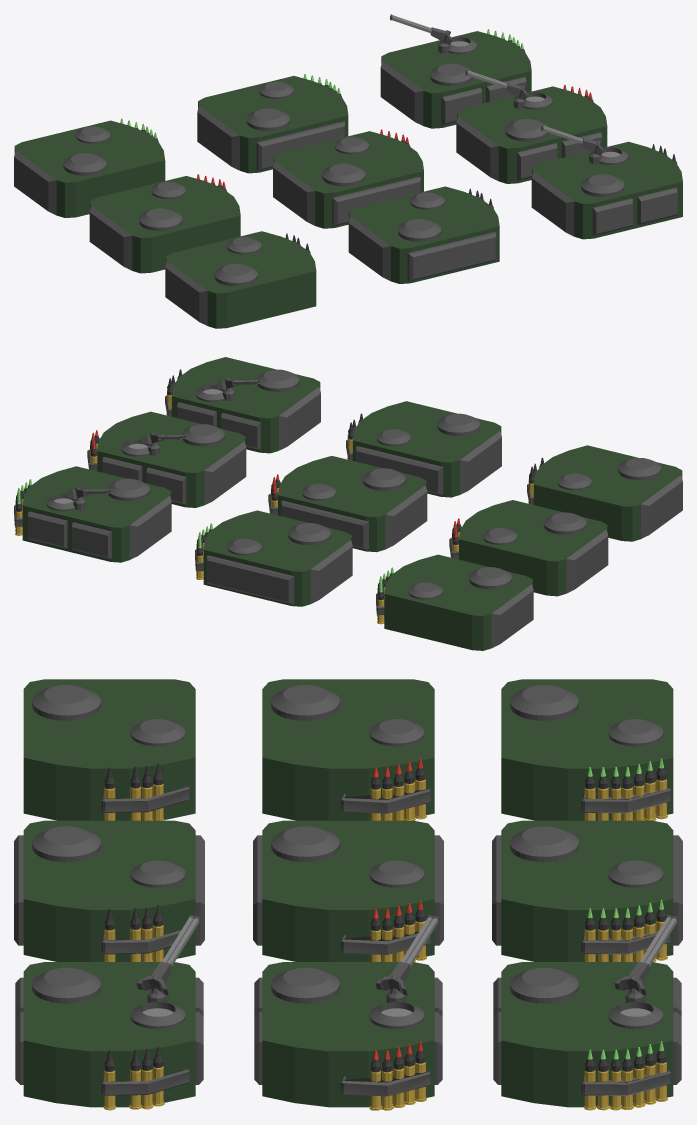
Rendered from boost_ammo_var3_tier1-3.fbx.
3 views of the same model, one above another, from view 1: azimuth 30°, elevation 25°; view 2: azimuth 150°, elevation 25°; view 3: azimuth 270°, elevation 25° (orthographic). The views are drawn at different scales.
Visible parts, largest first — view 1: head_3_tier1, head_2_tier1, head_1_tier1, head_3_tier3, head_3_tier2, head_1_tier3, head_2_tier3, head_1_tier2, head_2_tier2; view 2: head_3_tier3, head_1_tier3, head_2_tier3, head_3_tier2, head_1_tier2, head_2_tier2, head_2_tier1, head_1_tier1, head_3_tier1; view 3: head_3_tier3, head_3_tier2, head_3_tier1, head_2_tier3, head_2_tier2, head_2_tier1, head_1_tier3, head_1_tier2, head_1_tier1.
Boxes of the visible parts, box(x1,y1,x2,y2) form: head_3_tier1: box(531, 125, 682, 239); head_2_tier1: box(348, 186, 499, 283); head_1_tier1: box(165, 231, 316, 328); head_3_tier3: box(380, 14, 531, 128); head_3_tier2: box(456, 69, 607, 183); head_1_tier3: box(14, 118, 165, 217); head_2_tier3: box(197, 73, 348, 173); head_1_tier2: box(89, 174, 240, 273); head_2_tier2: box(273, 129, 423, 228); head_3_tier3: box(14, 466, 171, 562); head_1_tier3: box(376, 554, 533, 650); head_2_tier3: box(195, 510, 352, 606); head_3_tier2: box(87, 411, 246, 507); head_1_tier2: box(449, 500, 608, 596); head_2_tier2: box(268, 456, 427, 552); head_2_tier1: box(346, 401, 501, 497); head_1_tier1: box(527, 445, 682, 541); head_3_tier1: box(165, 357, 320, 453); head_3_tier3: box(493, 915, 681, 1110); head_3_tier2: box(254, 915, 442, 1110); head_3_tier1: box(15, 915, 203, 1110); head_2_tier3: box(492, 820, 682, 962); head_2_tier2: box(253, 820, 443, 962); head_2_tier1: box(14, 820, 204, 961); head_1_tier3: box(501, 679, 673, 820); head_1_tier2: box(262, 679, 434, 820); head_1_tier1: box(23, 679, 195, 820).
Bounding box in the file's own units: 1902 × 262 × 1400.
